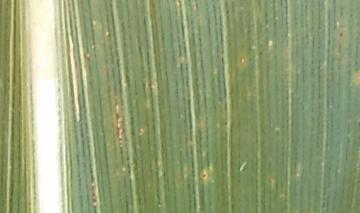tarspot: (200, 172, 209, 181)
